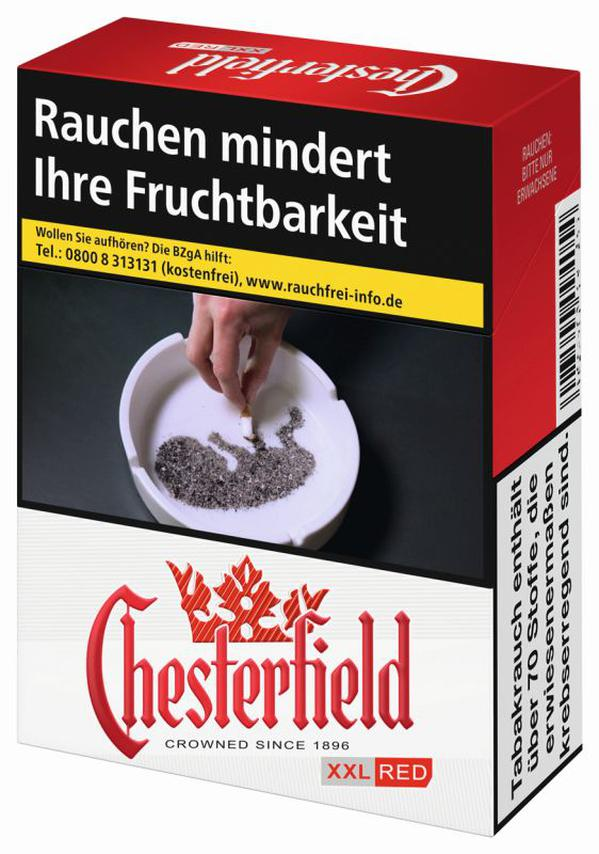chesterfield_red: (15, 128, 491, 764)
